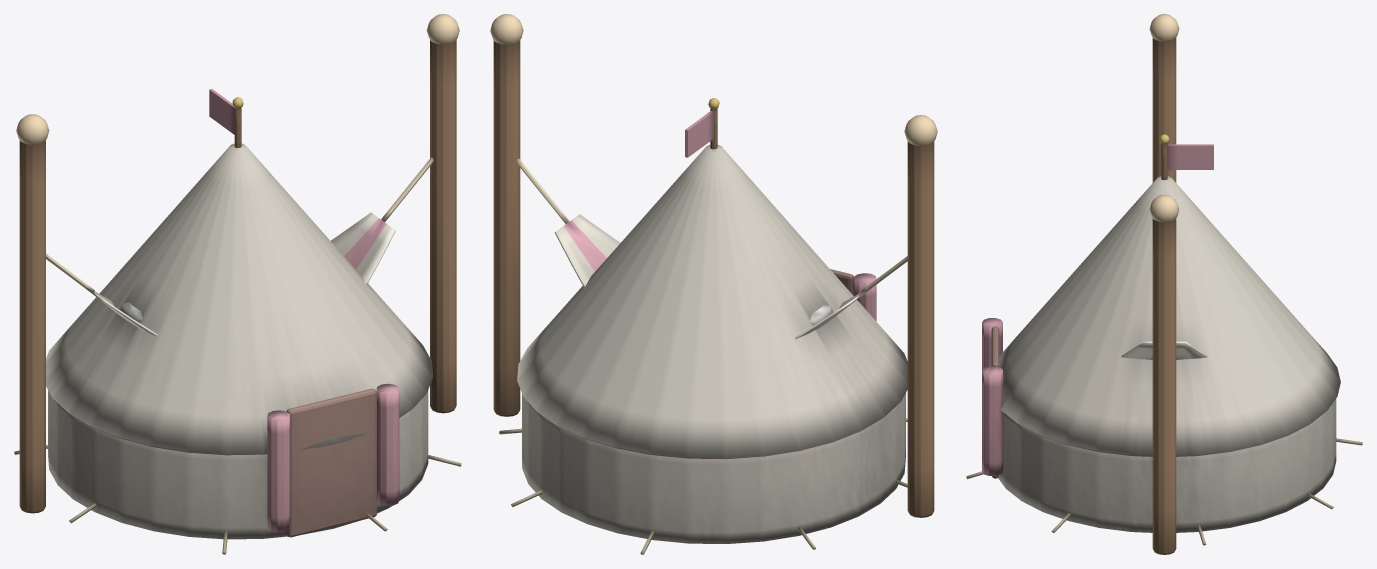
Rendered from camp_storybook.glb.
3 renders of one model, left to right at view 1: azimuth 30°, elevation 25°; view 2: azimuth 150°, elevation 25°; view 3: azimuth 270°, elevation 25°, orthographic. The views are drawn at different scales.
Visible parts, largest first — view 1: Tent, Hammock; view 2: Tent, Hammock; view 3: Tent, Hammock.
Part boxes in pixels (x1,y1,x2,y2): Tent: (14, 89, 461, 554); Hammock: (16, 14, 459, 513); Tent: (499, 98, 907, 554); Hammock: (490, 14, 937, 517); Tent: (966, 134, 1362, 545); Hammock: (1121, 14, 1207, 554).
Size of the model in its own units: 3.06 by 2.81 by 2.65.
